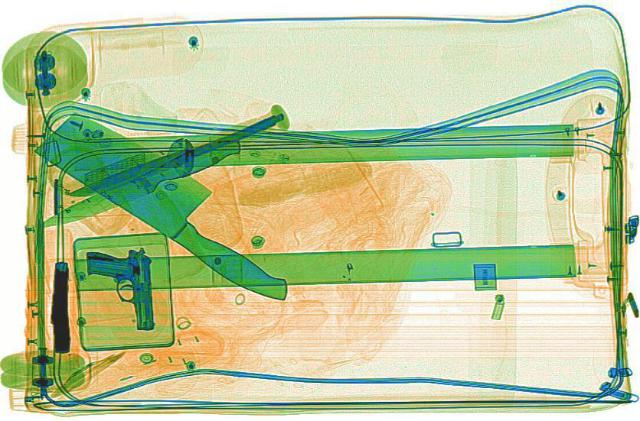Gun: (84, 246, 160, 331), (49, 261, 70, 351)
Knife: (12, 108, 338, 303), (23, 132, 247, 235), (64, 113, 286, 201)
